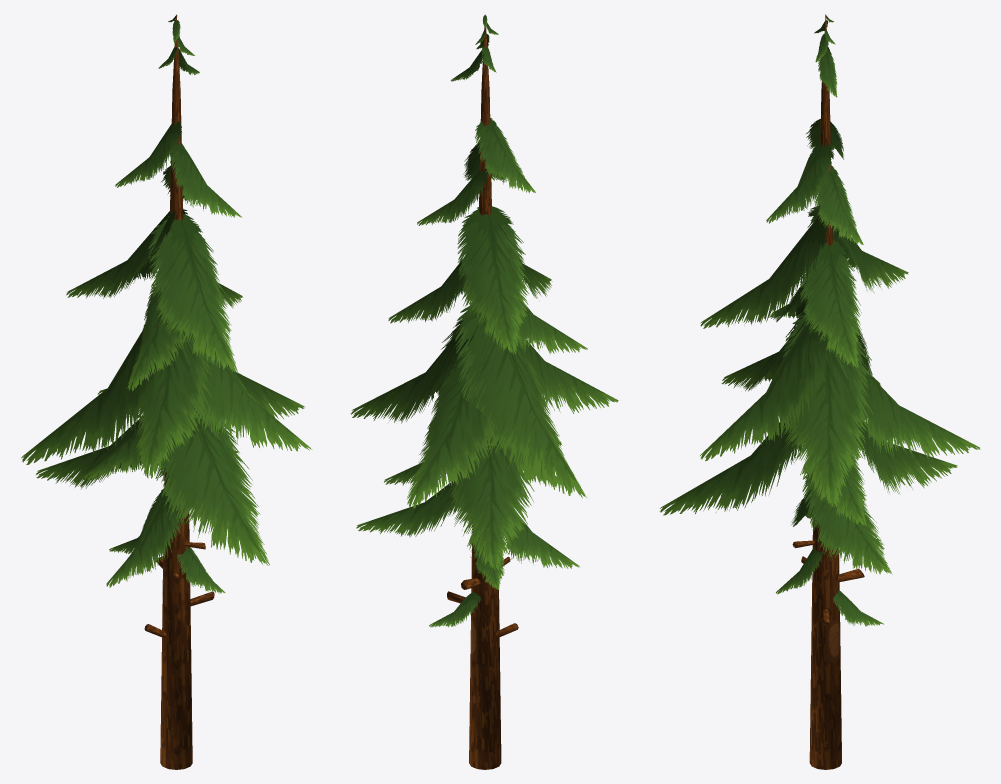
File: Tree1.fbx
3 renders of one model, left to right at view 1: azimuth 30°, elevation 25°; view 2: azimuth 150°, elevation 25°; view 3: azimuth 270°, elevation 25°, orthographic.
Parts seen in each view (by area): view 1: Tree1; view 2: Tree1; view 3: Tree1.
Boxes of the visible parts, <box> form: Tree1: <box>21,14,312,769</box>; Tree1: <box>350,14,618,769</box>; Tree1: <box>659,14,980,769</box>.
Size of the model in its own units: 6.07 by 16.09 by 6.5.
2 materials, 2 textured.
